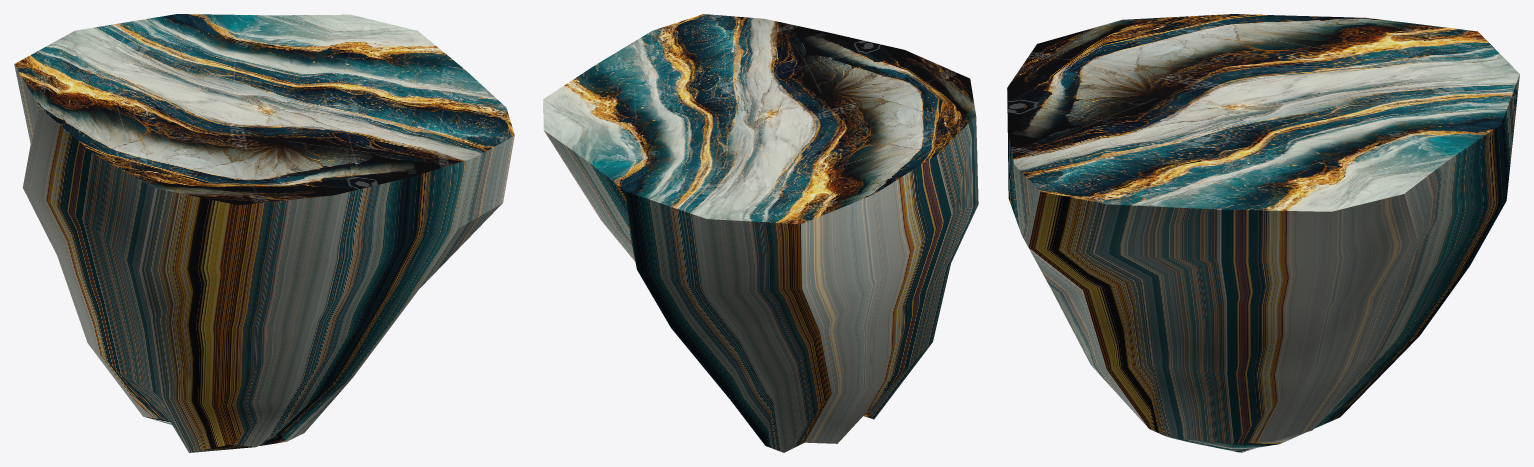
Rendered from flat_island_2.gltf.
3 views of the same model, side by side, from view 1: azimuth 30°, elevation 25°; view 2: azimuth 150°, elevation 25°; view 3: azimuth 270°, elevation 25° (orthographic). The views are drawn at different scales.
Visible parts, largest first — view 1: Plane; view 2: Plane; view 3: Plane.
Boxes of the visible parts, x1,y1,x2,y2 form: Plane: [14, 14, 514, 452]; Plane: [543, 14, 978, 452]; Plane: [1007, 14, 1519, 452].
Size of the model in its own units: 3.47 by 2.83 by 3.68.
Materials: 1 (1 with a texture image).
